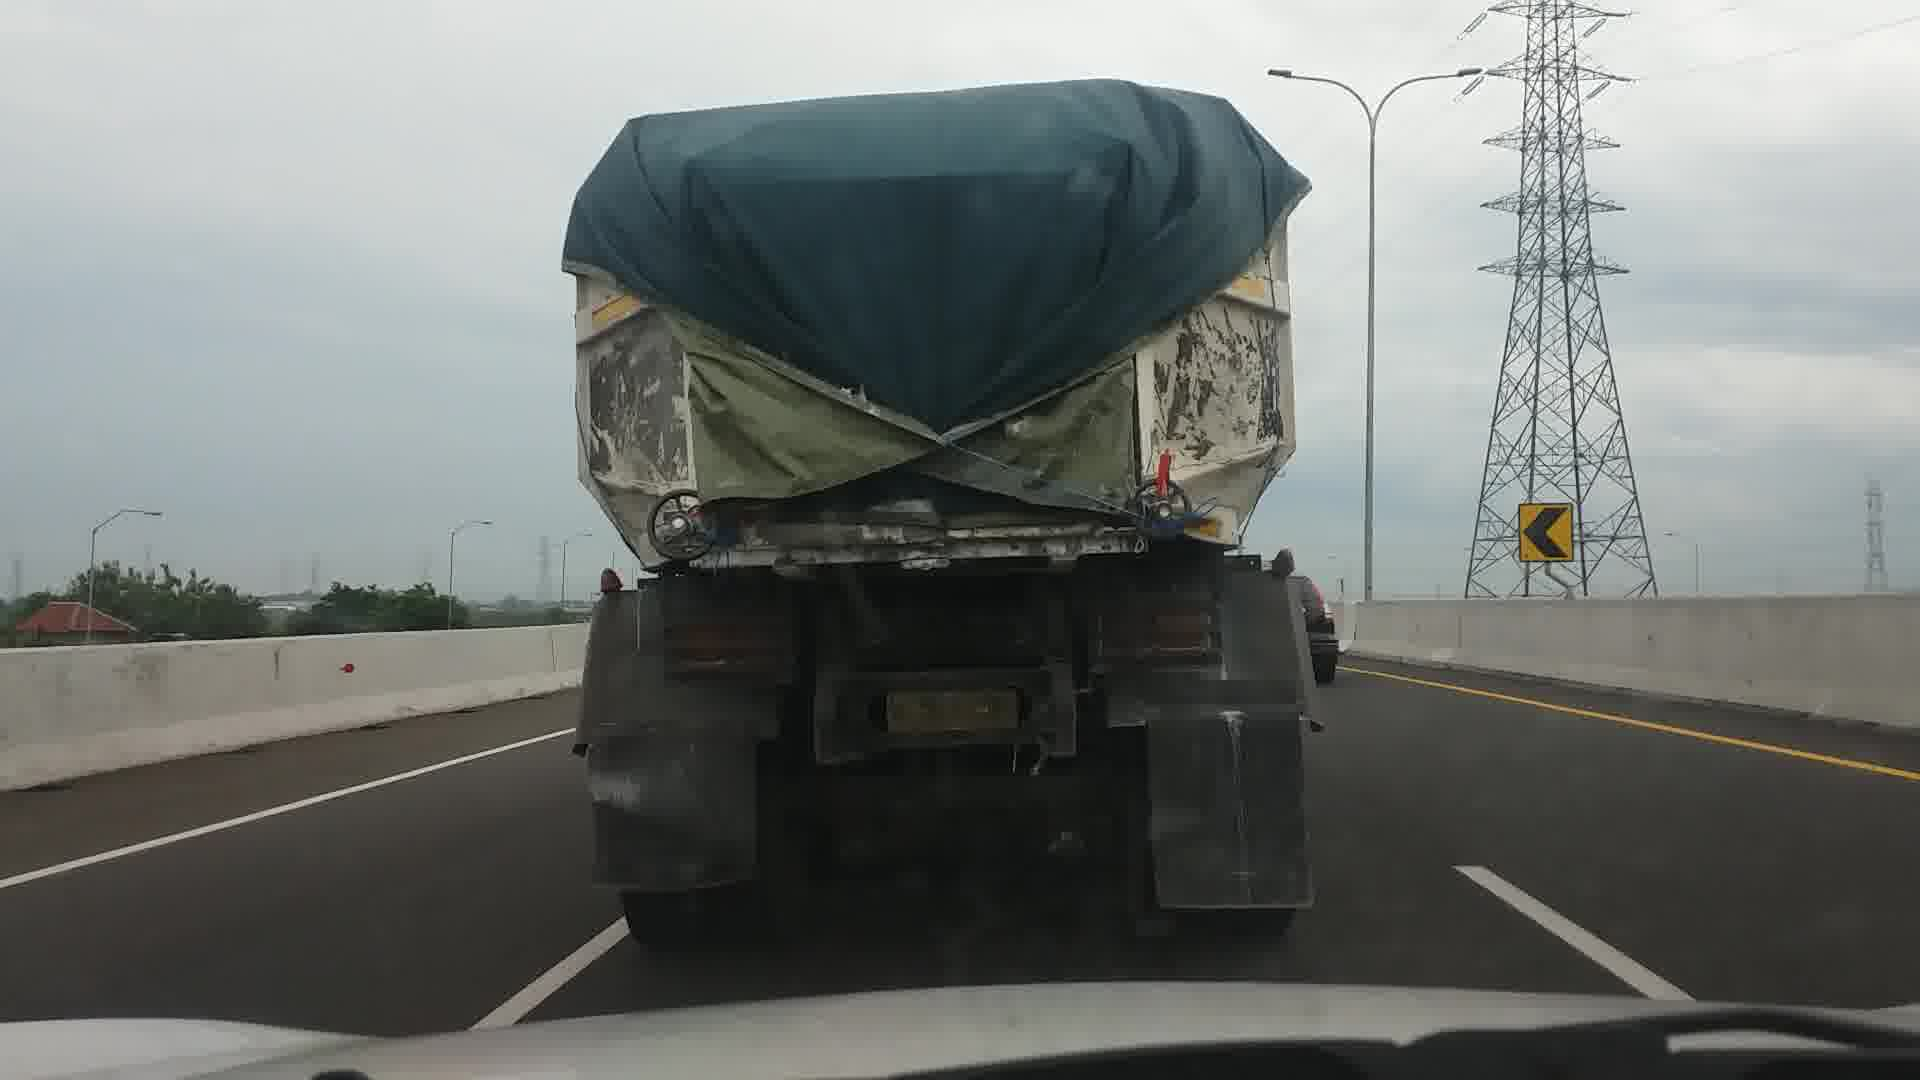plate_positive: (887, 688, 1021, 732)
